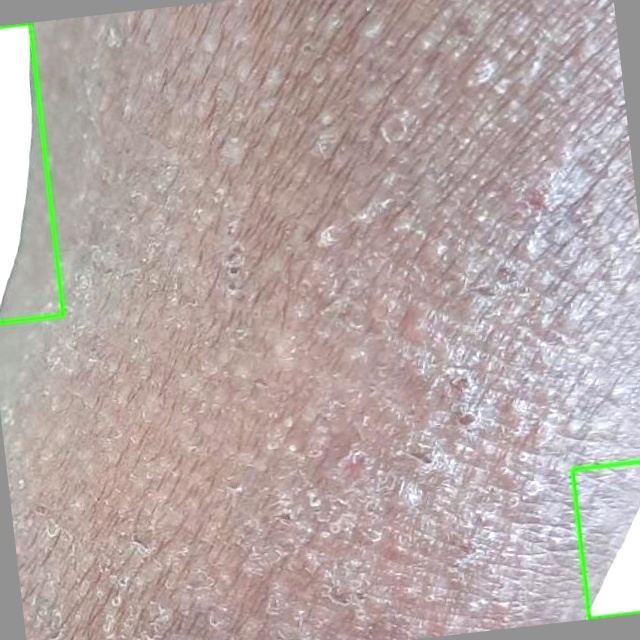Contact Dermatitis: (0, 23, 63, 323), (572, 461, 639, 618)
